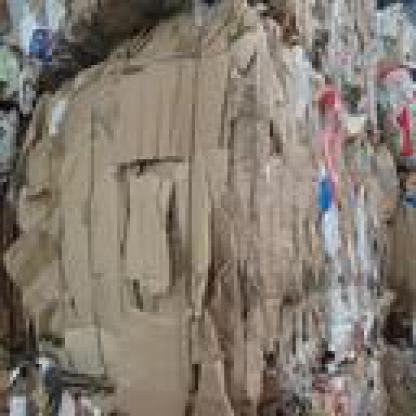CARDBOARD: (0, 0, 413, 413), (23, 146, 413, 413), (0, 0, 198, 413), (292, 52, 393, 413), (0, 0, 159, 166), (244, 0, 296, 413), (198, 0, 247, 413), (0, 276, 111, 413), (266, 0, 374, 140), (113, 299, 228, 413), (121, 169, 176, 293), (377, 166, 413, 334), (374, 65, 412, 166), (374, 0, 412, 75), (377, 338, 413, 413)
